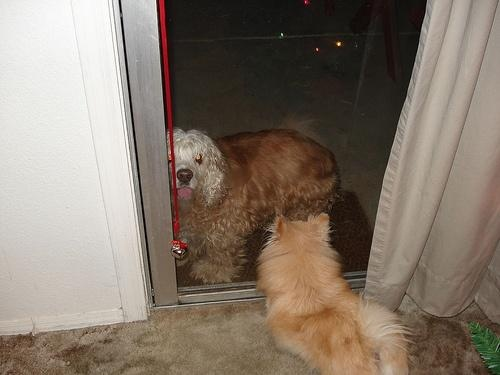dog: (169, 128, 343, 287), (259, 213, 409, 375)
